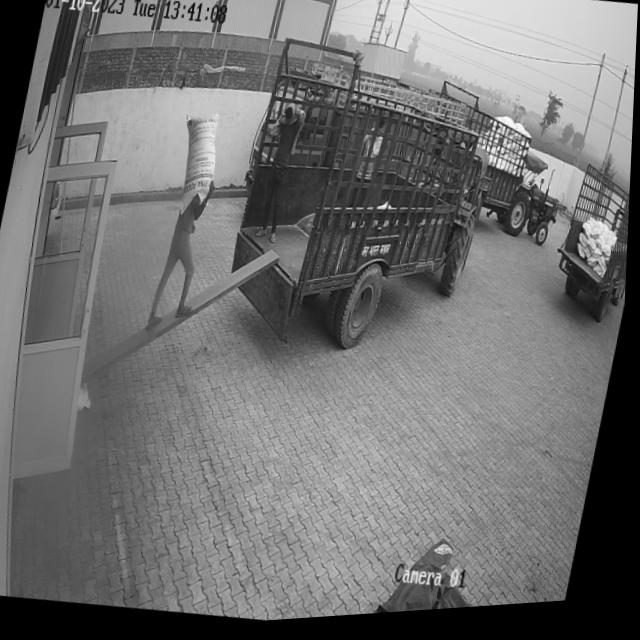sack: (168, 110, 227, 221)
